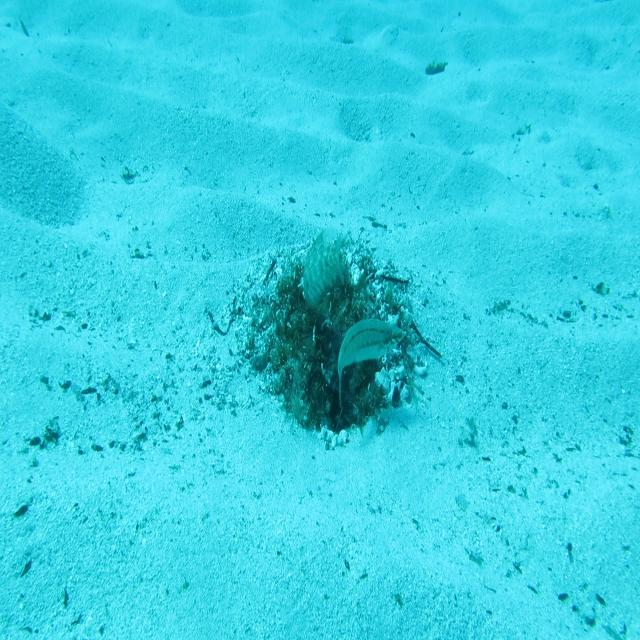NIP_CORE: (300, 222, 348, 317)
core_nest: (299, 280, 349, 328)
female: (336, 316, 406, 412)
nest: (226, 220, 438, 457)
vegetation: (422, 62, 453, 77)
